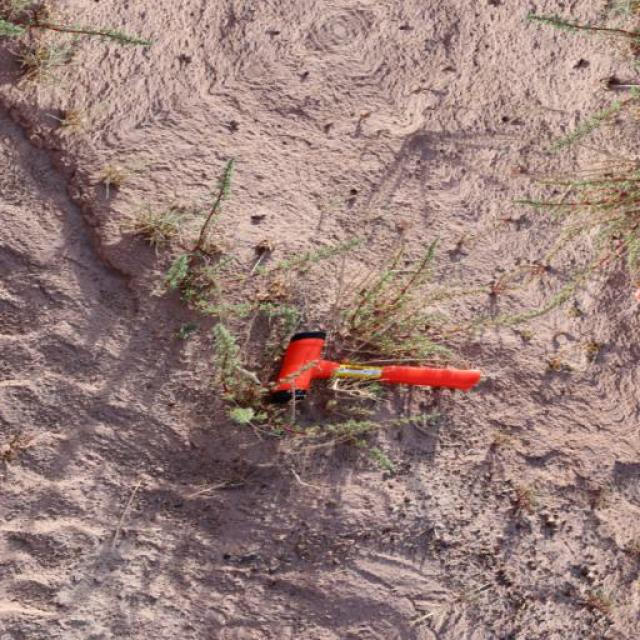mallet: (262, 326, 482, 405)
